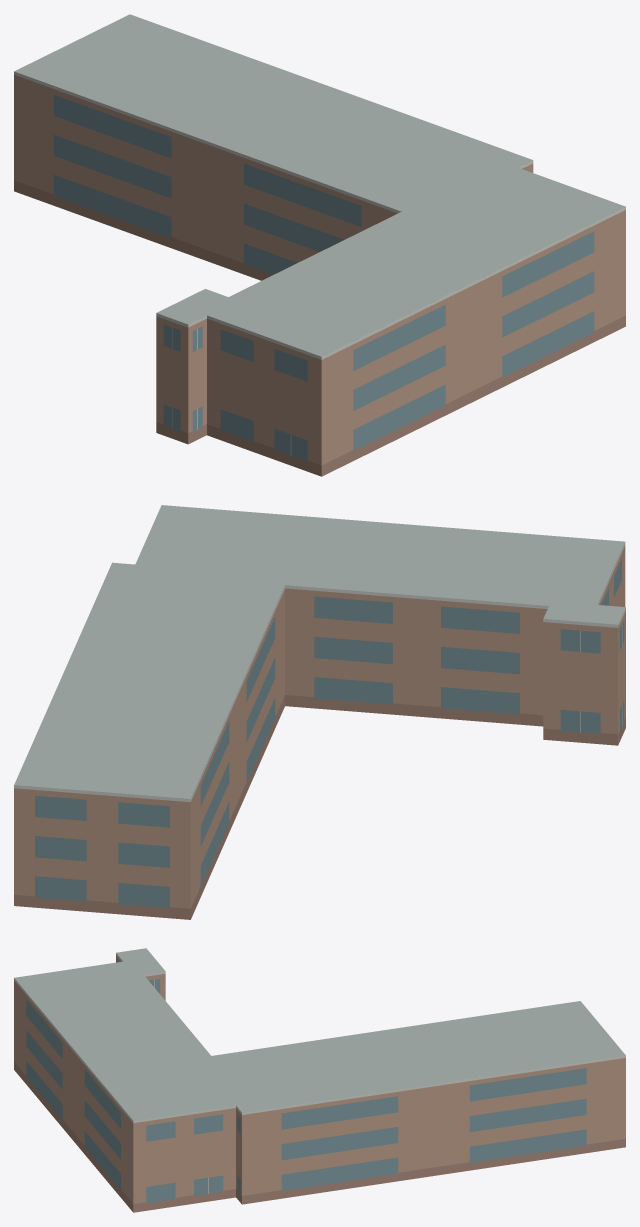
Rendered from residential-07cb9795-5e96-460e-a9f3-f99fe3a6f577.glb.
3 renders of one model, top to bottom at view 1: azimuth 30°, elevation 25°; view 2: azimuth 150°, elevation 25°; view 3: azimuth 270°, elevation 25°, orthographic. The views are drawn at different scales.
Parts seen in each view (by area): view 1: residential-07cb9795-5e96-460e-a9f3-f99fe3a6f577.tmp; view 2: residential-07cb9795-5e96-460e-a9f3-f99fe3a6f577.tmp; view 3: residential-07cb9795-5e96-460e-a9f3-f99fe3a6f577.tmp.
Part boxes in pixels (left/top/right/bottom): residential-07cb9795-5e96-460e-a9f3-f99fe3a6f577.tmp: left=14, top=14, right=625, bottom=476; residential-07cb9795-5e96-460e-a9f3-f99fe3a6f577.tmp: left=14, top=505, right=625, bottom=919; residential-07cb9795-5e96-460e-a9f3-f99fe3a6f577.tmp: left=14, top=948, right=625, bottom=1212.
Bounding box in the file's own units: 36.84 × 9.15 × 55.19.
